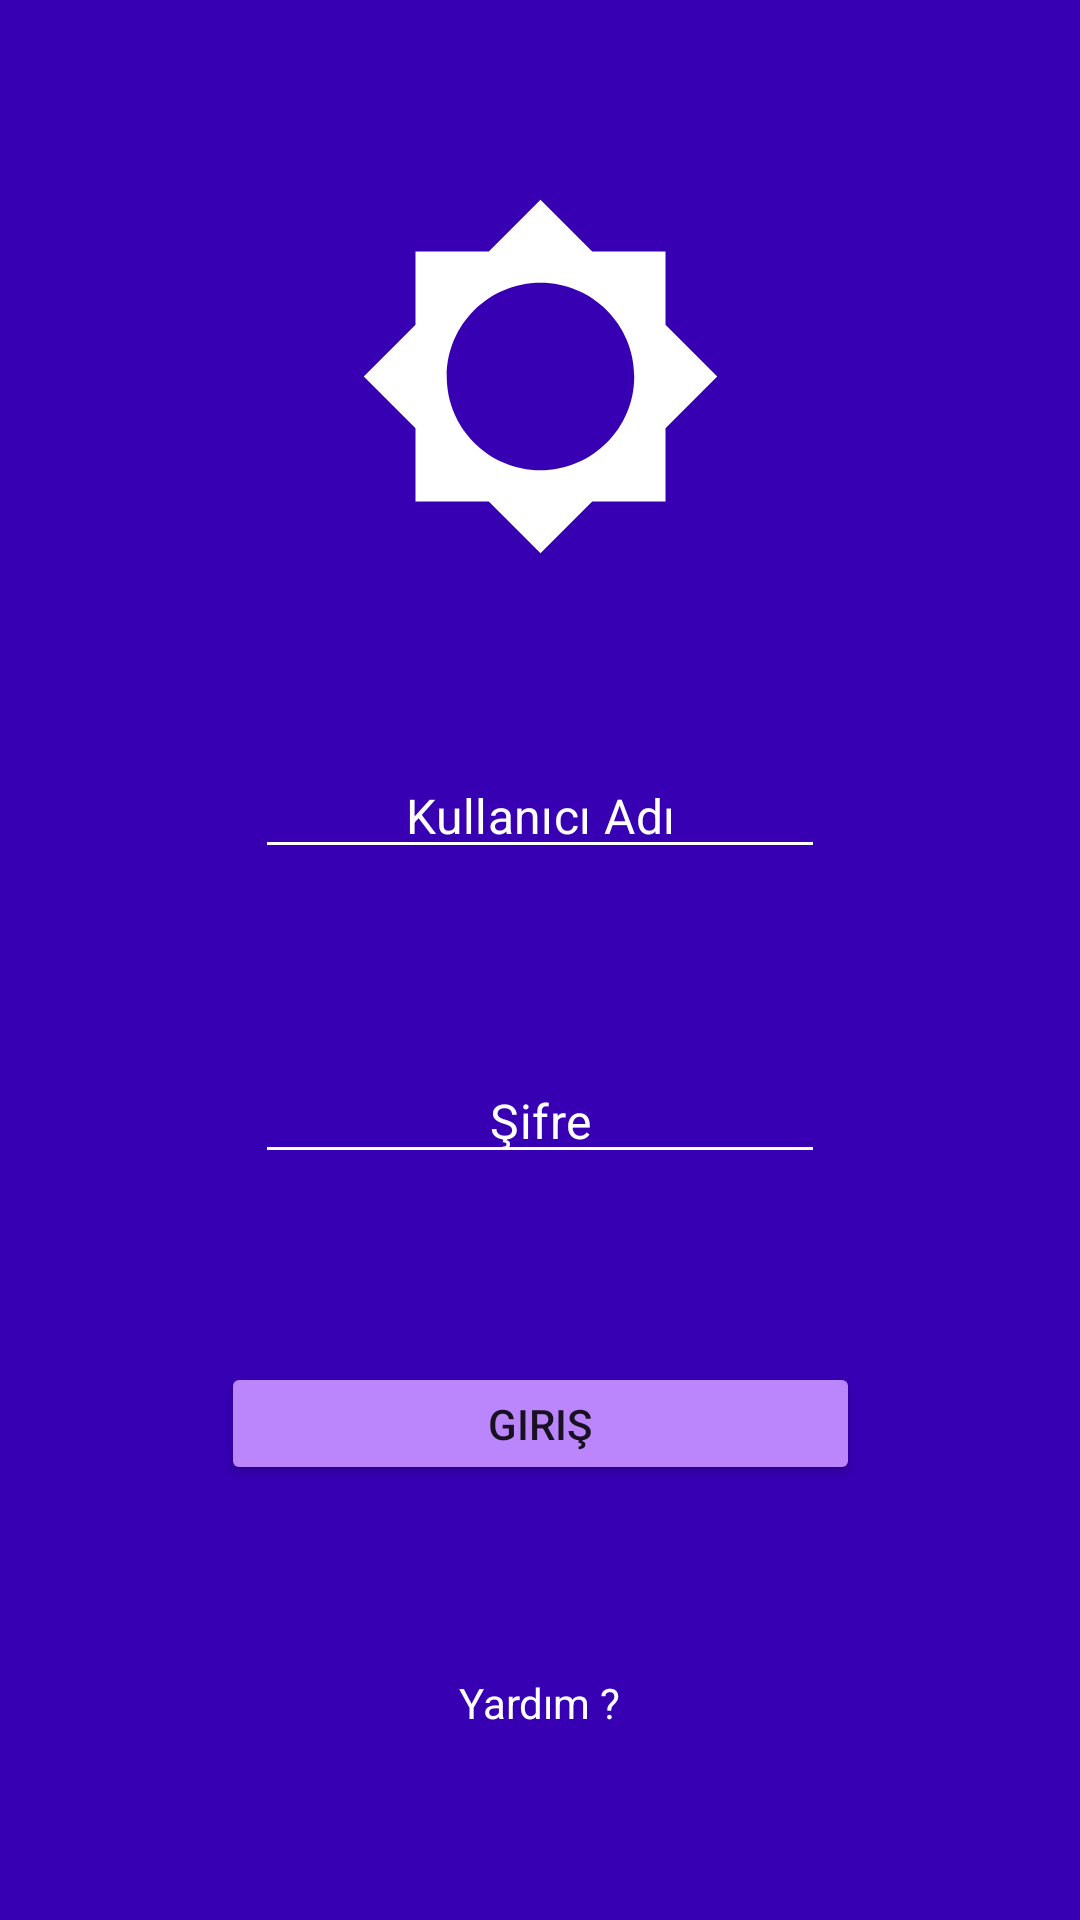

Where icons sit on this 1080px×1920px app screen, as (x1, y1, x2, y2):
brightness: (364, 200, 717, 553)
